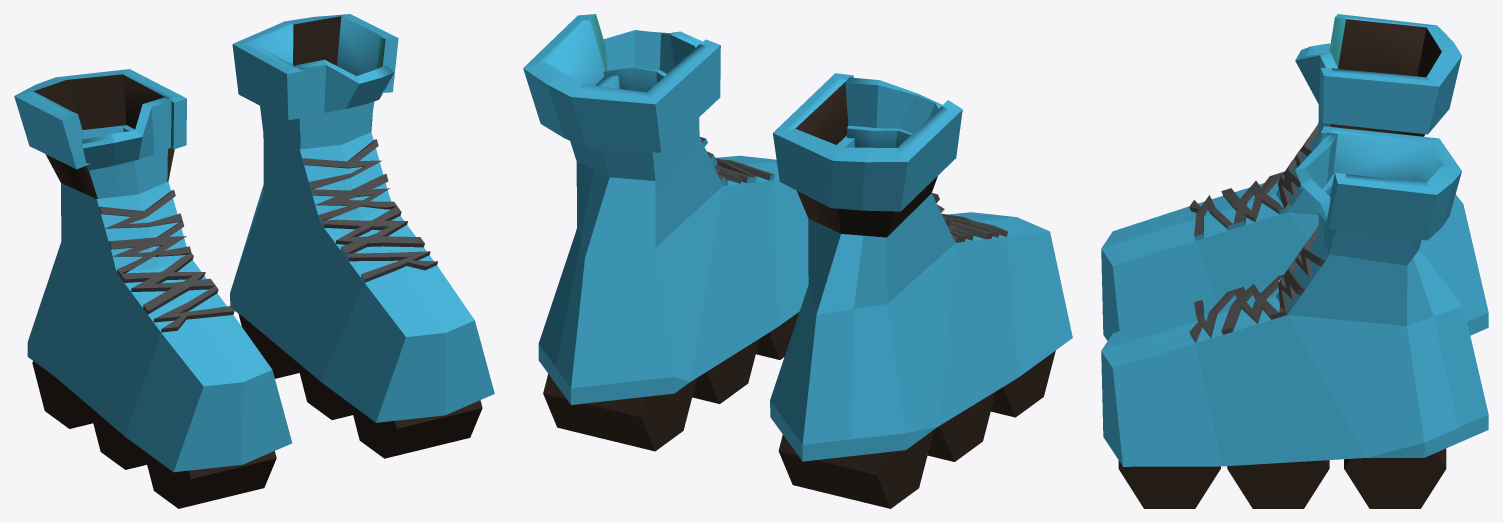
Rendered from paten_revize.fbx.
3 views of the same model, side by side, from view 1: azimuth 30°, elevation 25°; view 2: azimuth 150°, elevation 25°; view 3: azimuth 270°, elevation 25° (orthographic). The views are drawn at different scales.
Visible parts, largest first — view 1: Cylinder.004, Cylinder.005; view 2: Cylinder.004, Cylinder.005; view 3: Cylinder.004, Cylinder.005.
Boxes of the visible parts, x1,y1,x2,y2 form: Cylinder.004: (14, 14, 494, 508); Cylinder.005: (82, 59, 394, 198); Cylinder.004: (523, 14, 1072, 508); Cylinder.005: (603, 30, 942, 147); Cylinder.004: (1101, 14, 1488, 508); Cylinder.005: (1295, 43, 1337, 253).
Bounding box in the file's own units: 29.05 × 27.16 × 28.03.
